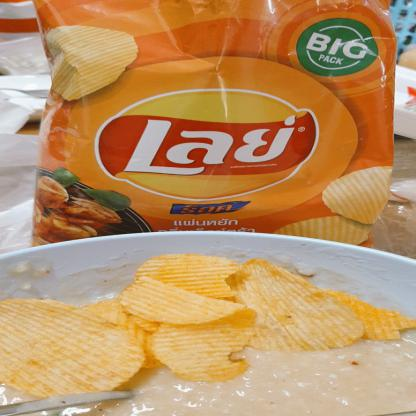potatochip: (24, 0, 404, 285)
